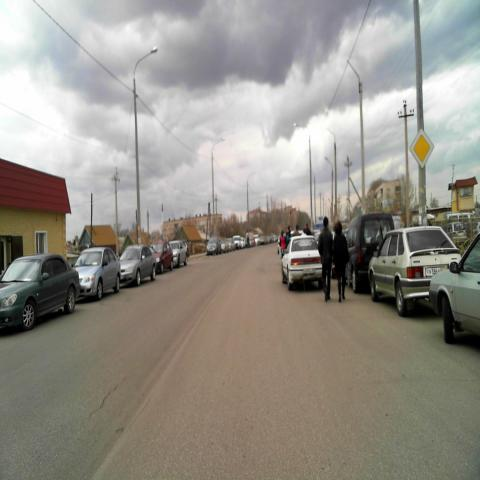2_1: (410, 128, 434, 170)
